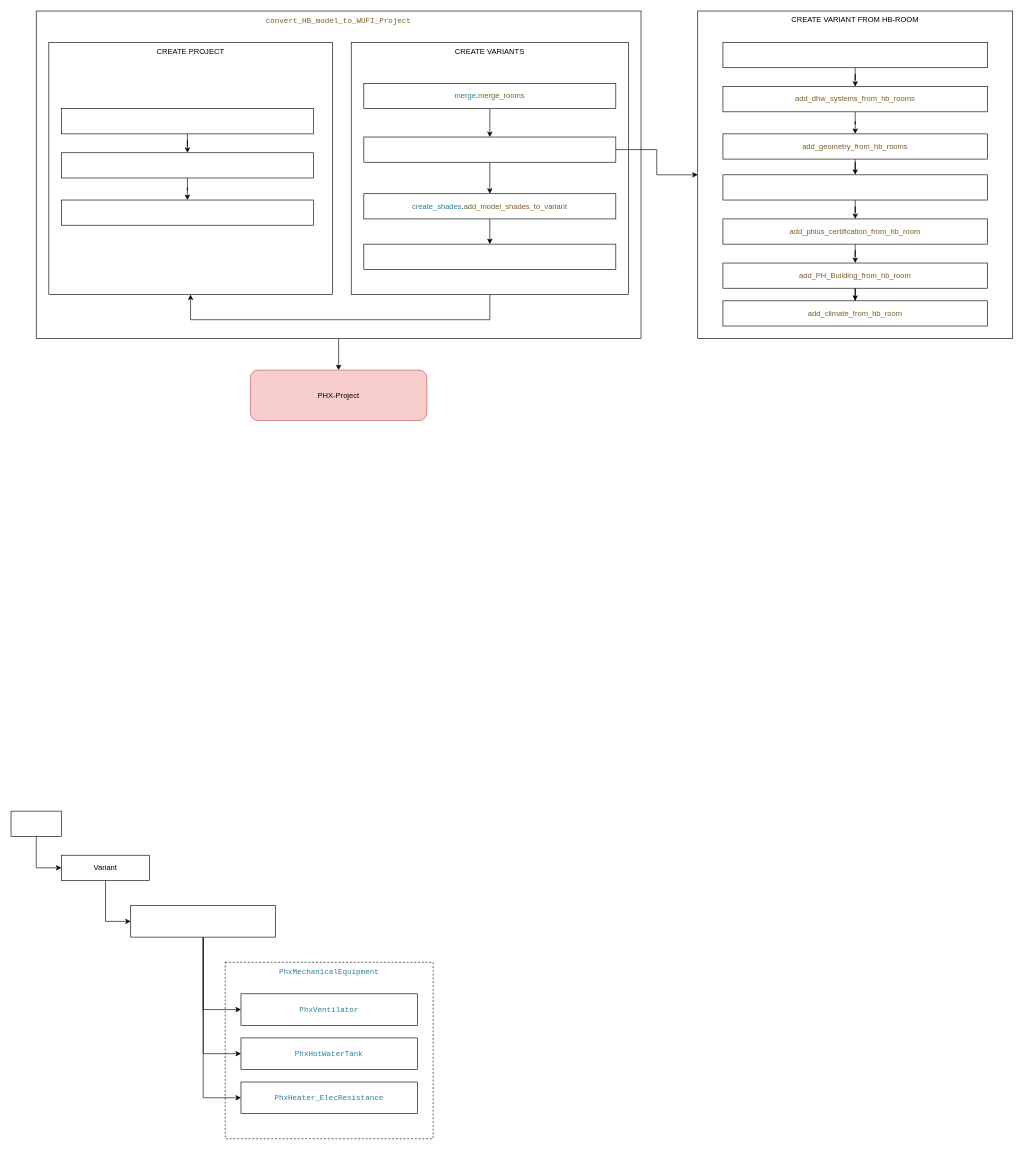
This 1024x1150 diagram has some shape labels left out. The centre of each missing label's shape, as x and y in pixels:
Add new Variant to Project: the point at 489,256
add_building_from_hb_room: the point at 855,187
add_hvac_systems_from_hb_rooms: the point at 855,55
create_assemblies . build_opaque_assemblies_from_HB_model: the point at 187,121
create_assemblies . build_transparent_assemblies_from_HB_Model: the point at 187,165
create_schedules . build_util_patterns_ventilation_from_HB_Model: the point at 187,212
create_variant . from_hb_room: the point at 489,149
PhxMechanicalEquipmentCollection: the point at 203,921
Project: the point at 35,823
